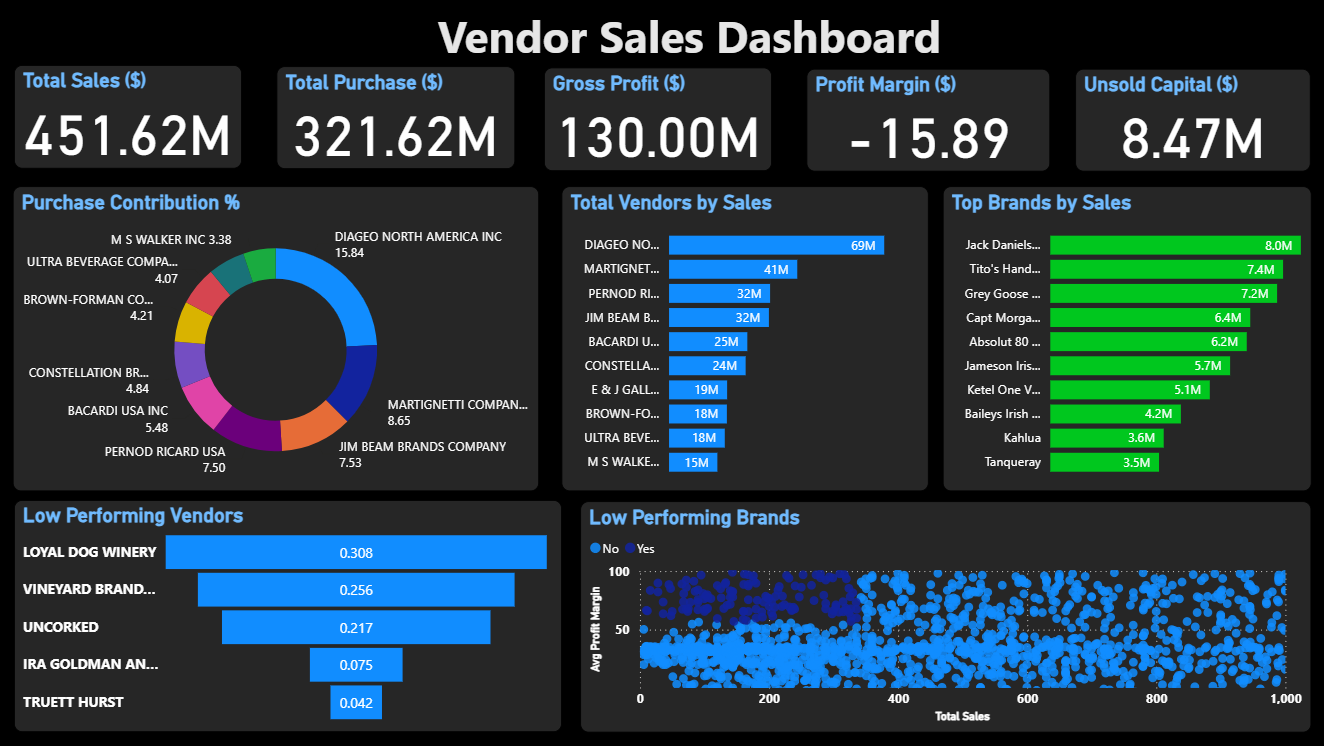

The dashboard page shown, as its layout file describes it:
{"tool":"powerbi","page":{"name":"Page 1","canvas":[1280,720],"ordinal":0},"visuals":[{"type":"textbox","box":[400,0,531.7,75.6],"z":0},{"type":"card","title":"Total Sales ($)","fields":{"Values":["Sum(vendor_sales_summary.TotalSalesDollars)"]},"box":[14.2,63.3,220,100],"z":1000},{"type":"card","title":"Total Purchase ($)","fields":{"Values":["Sum(vendor_sales_summary.TotalPurchaseDollars)"]},"box":[267.5,63.4,230.1,99.5],"z":2000},{"type":"card","title":"Gross Profit ($)","fields":{"Values":["Sum(vendor_sales_summary.GrossProfit)"]},"box":[526.5,65.7,220,100],"z":3000},{"type":"card","title":"Profit Margin ($)","fields":{"Values":["Avg(vendor_sales_summary.ProfitMargin)"]},"box":[780,65.9,235.1,99.5],"z":4000},{"type":"card","title":"Unsold Capital ($)","fields":{"Values":["vendor_sales_summary.UnsoldCapital"]},"box":[1038.2,66,227.4,99],"z":5000},{"type":"donutChart","title":"Purchase Contribution %","fields":{"Y":["PurchaseContribution.PurchaseContribution%"],"Series":["PurchaseContribution.VendorName"],"Category":["PurchaseContribution.VendorName"]},"box":[13.3,179.8,507.9,294.4],"z":6000},{"type":"barChart","title":"Total Vendors by Sales","fields":{"Category":["vendor_sales_summary.VendorName"],"Y":["Sum(vendor_sales_summary.TotalSalesDollars)"]},"box":[542.9,179.8,354.7,294.4],"z":7000},{"type":"barChart","title":"Top Brands by Sales","fields":{"Category":["vendor_sales_summary.Description"],"Y":["Sum(vendor_sales_summary.TotalSalesDollars)"]},"box":[910.9,179.8,355.9,294.4],"z":8000},{"type":"funnel","title":"Low Performing Vendors","fields":{"Category":["LowTurnover.VendorName"],"Y":["Avg(LowTurnover.AvgStockTurnOver)"]},"box":[14.5,482.6,528.4,224.4],"z":9000},{"type":"scatterChart","title":"Low Performing Brands","fields":{"Category":["BrandPerformance.Description"],"X":["Sum(BrandPerformance.TotalSales)"],"Y":["Avg(BrandPerformance.AvgProfitMargin)"],"Series":["BrandPerformance.TargetBrand"]},"box":[561,483.8,705.8,223.2],"z":10000}]}

Visuals, with their boxes in screenshot pixels (x1, y1, x2, y2), scaled from the page's 1280x720 canvas onto the 1324x746 screenshot:
textbox: [x1=414, y1=0, x2=964, y2=78]
"Total Sales ($)" card: [x1=15, y1=66, x2=242, y2=169]
"Total Purchase ($)" card: [x1=277, y1=66, x2=515, y2=169]
"Gross Profit ($)" card: [x1=545, y1=68, x2=772, y2=172]
"Profit Margin ($)" card: [x1=807, y1=68, x2=1050, y2=171]
"Unsold Capital ($)" card: [x1=1074, y1=68, x2=1309, y2=171]
"Purchase Contribution %" donutChart: [x1=14, y1=186, x2=539, y2=491]
"Total Vendors by Sales" barChart: [x1=562, y1=186, x2=928, y2=491]
"Top Brands by Sales" barChart: [x1=942, y1=186, x2=1310, y2=491]
"Low Performing Vendors" funnel: [x1=15, y1=500, x2=562, y2=733]
"Low Performing Brands" scatterChart: [x1=580, y1=501, x2=1310, y2=733]
